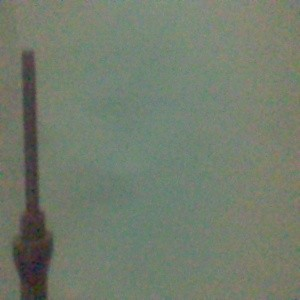obeng: (11, 49, 54, 300)
